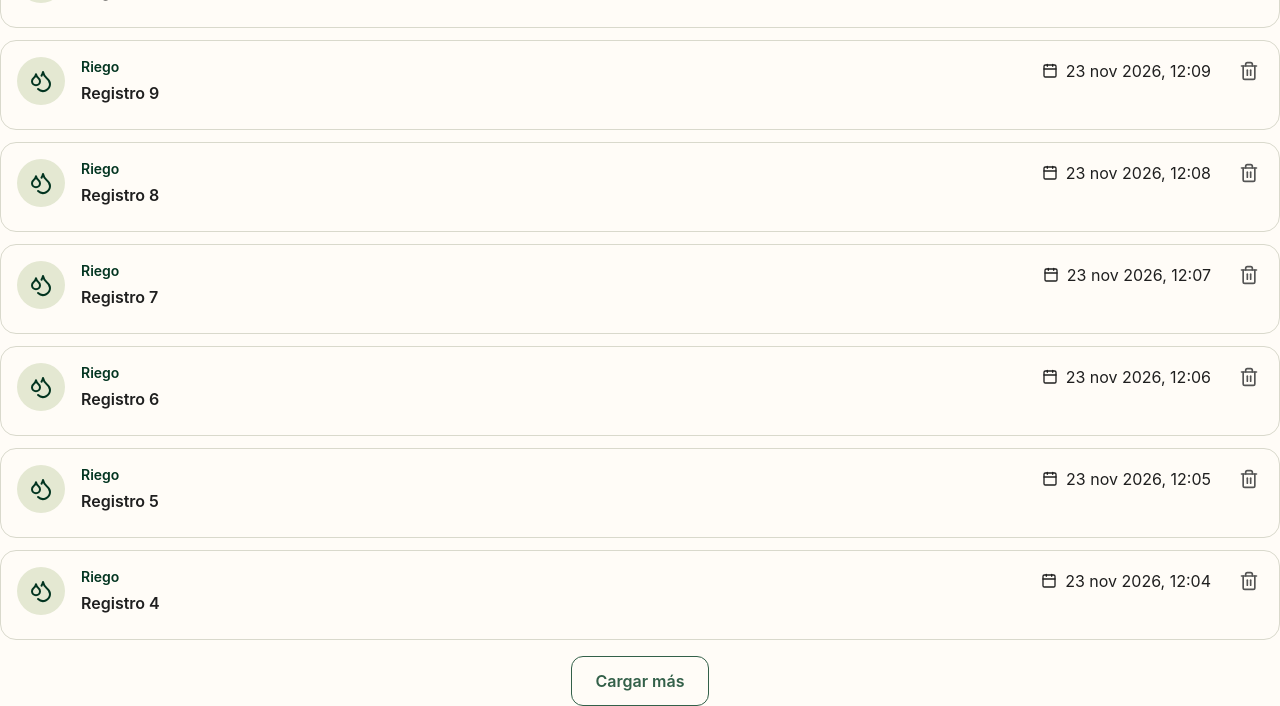
Test: PlantLogSection: la lista › «Cargar más» trae la página siguiente y, al terminar, el foco va al primero nuevo
(page scrolled)
Click the button "Cargar más": (640, 681) left=570, top=656, right=709, bottom=705
(page scrolled)
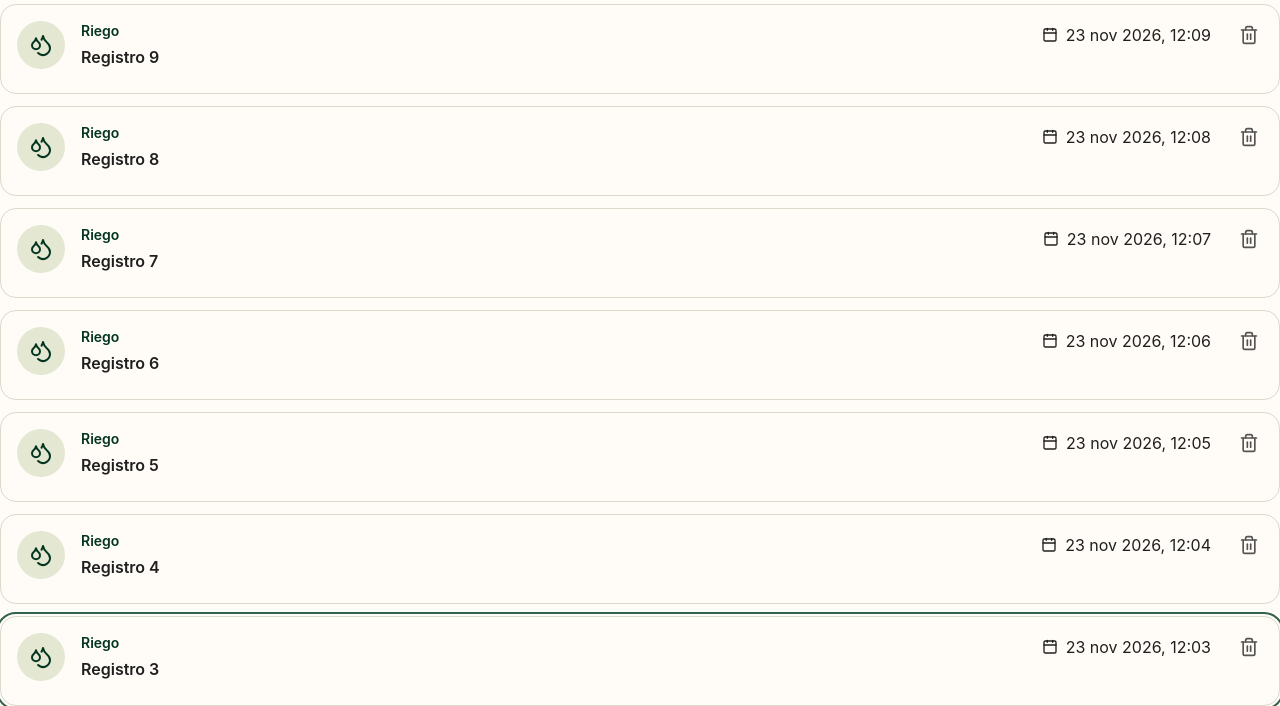
Now the button "Cargar más" is gone
